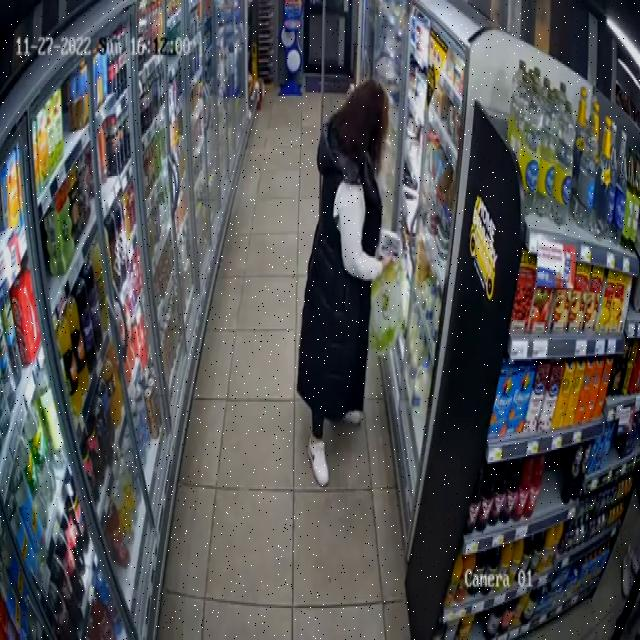article: (378, 231, 401, 256)
bags: (369, 260, 404, 352)
person: (297, 80, 388, 485)
